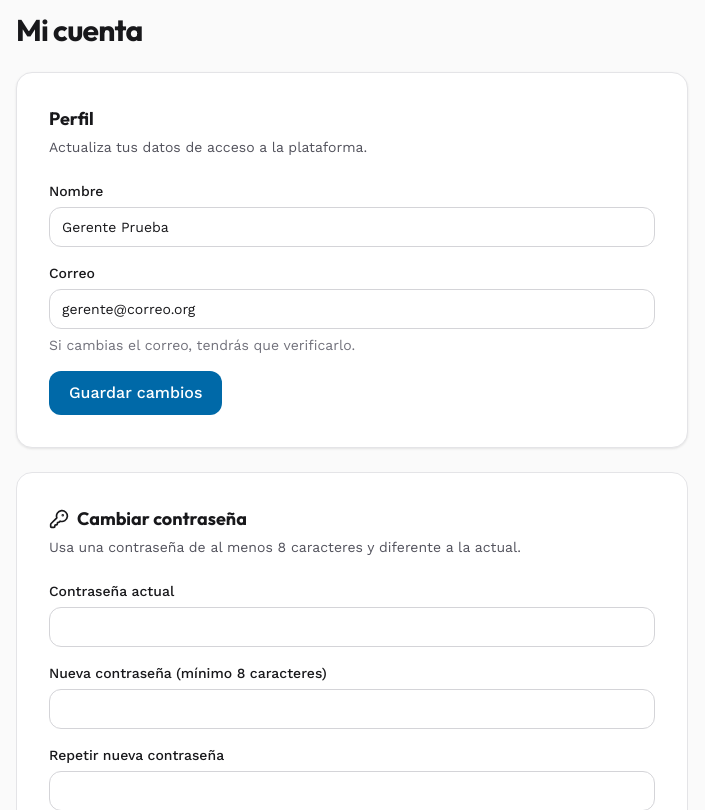
it: AccountPage › guarda los cambios de perfil y confirma con un mensaje
Replace the text in the field labelled "Nombre" with "Nuevo Nombre" at (352, 227), box [49,207,655,247]
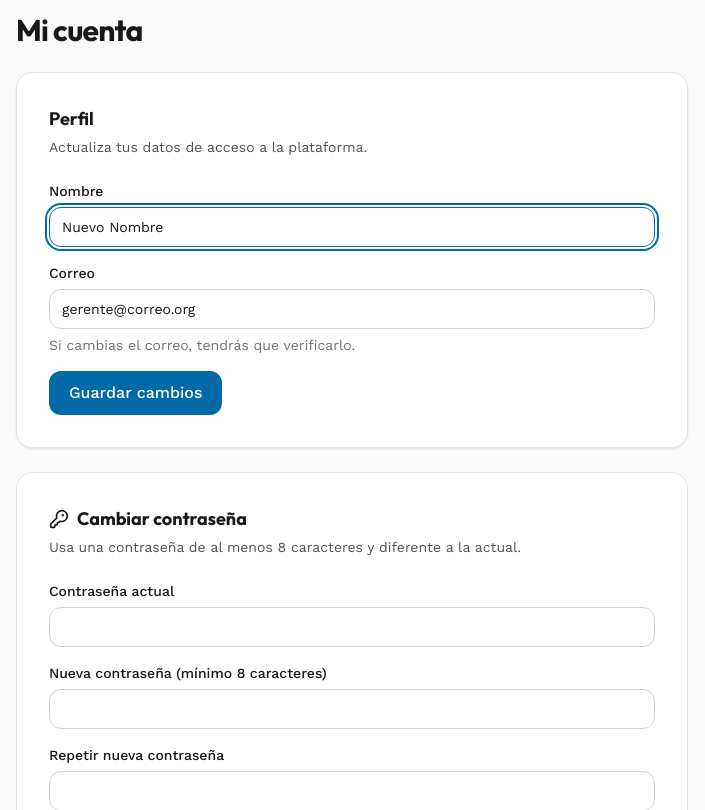
Click the button "Guardar cambios" at (136, 393), box [49,371,222,415]
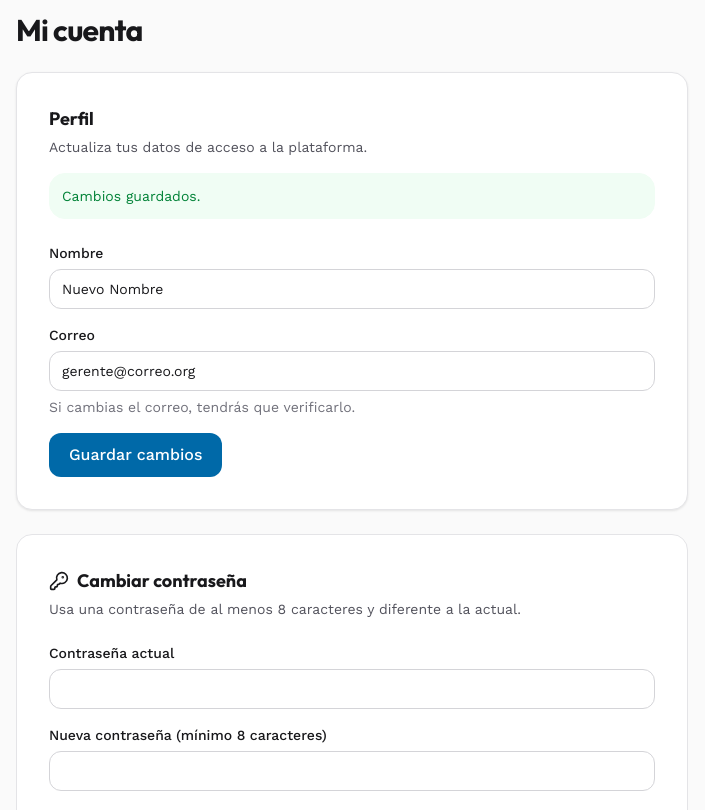
Result: the message shows "Cambios guardados" at [62,188,200,204]
